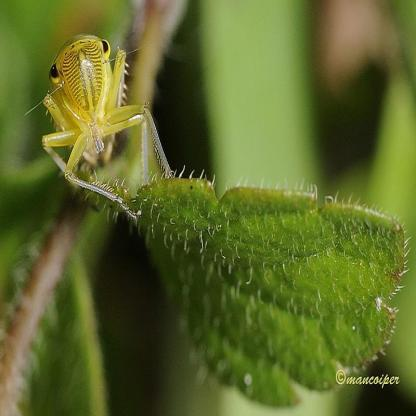Green-Leafhopper: (25, 33, 178, 223)
